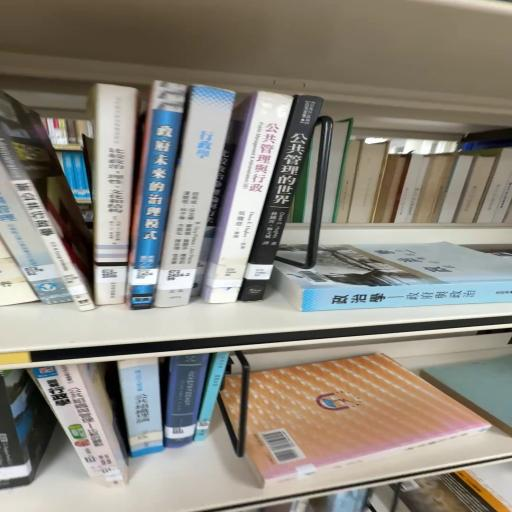flat: (243, 354, 490, 487), (271, 242, 512, 311)
